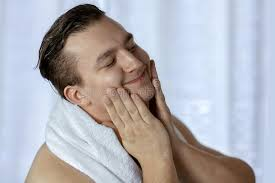white_male: (69, 22, 163, 113)
